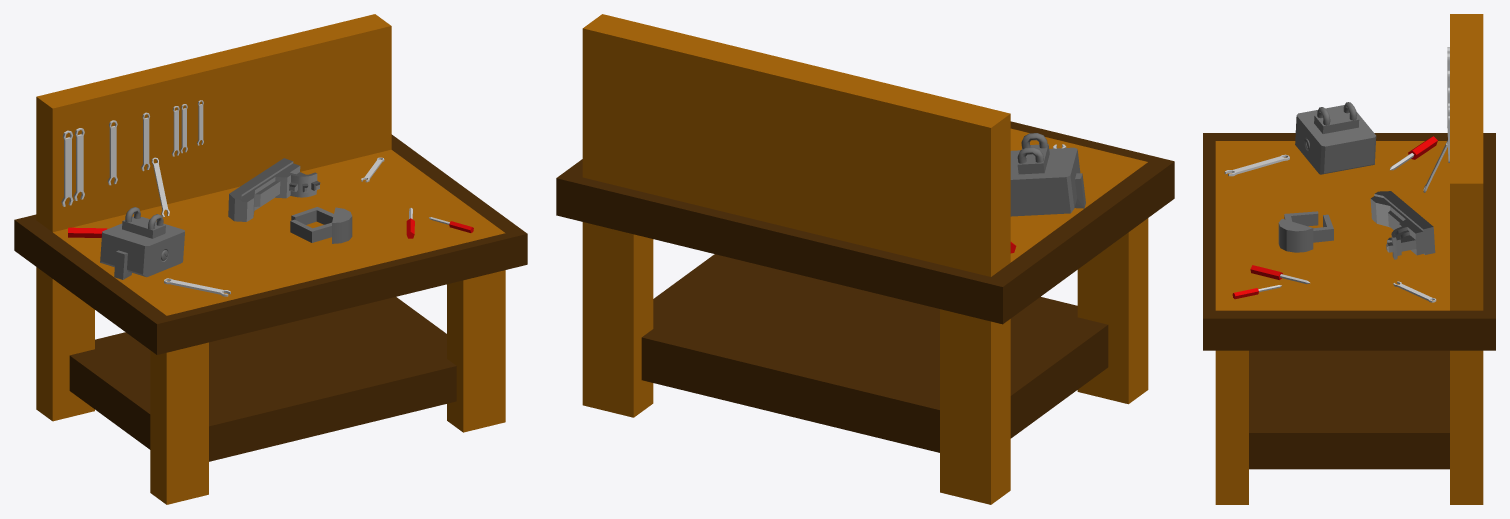
Rendered from tinkers_table.fbx.
The picture shows the model from 3 angles, left to right: view 1: azimuth 30°, elevation 25°; view 2: azimuth 150°, elevation 25°; view 3: azimuth 270°, elevation 25°; orthographic projection. The views are drawn at different scales.
Parts seen in each view (by area): view 1: tinker_table_low; view 2: tinker_table_low; view 3: tinker_table_low.
Part boxes in pixels (bbox=[...]): tinker_table_low: bbox=[14, 14, 527, 504]; tinker_table_low: bbox=[556, 14, 1174, 504]; tinker_table_low: bbox=[1203, 14, 1495, 504].
Bounding box in the file's own units: 164 × 132 × 109.
